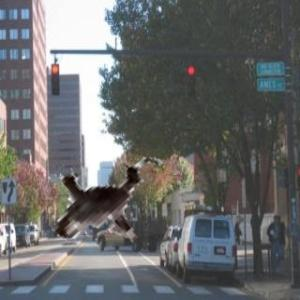drone: (22, 133, 187, 298)
